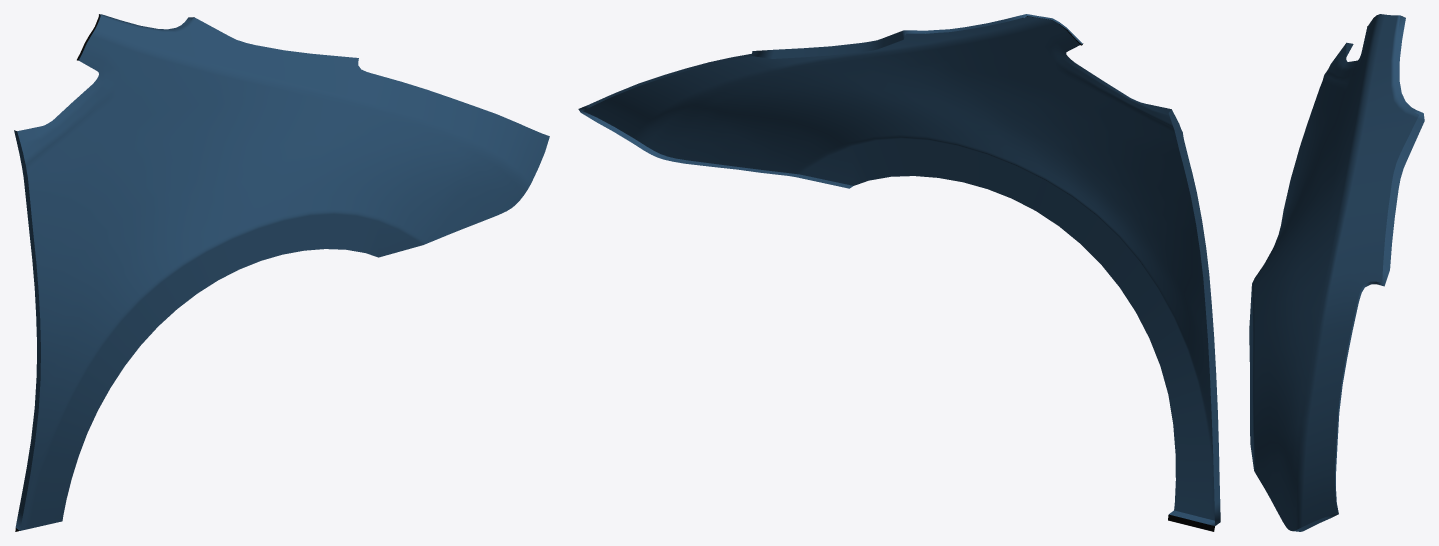
3 views of the same model, side by side, from view 1: azimuth 30°, elevation 25°; view 2: azimuth 150°, elevation 25°; view 3: azimuth 270°, elevation 25° (orthographic). The views are drawn at different scales.
Visible parts, largest first — view 1: Y191_13_141B_R_Y191_13_141B_R_1_DaS, Y191_13_141B_R_Y191_13_141B_R_1_DaS_E; view 2: Y191_13_141B_R_Y191_13_141B_R_1_DaS, Y191_13_141B_R_Y191_13_141B_R_1_DaS_E; view 3: Y191_13_141B_R_Y191_13_141B_R_1_DaS, Y191_13_141B_R_Y191_13_141B_R_1_DaS_E.
Boxes of the visible parts, x1=… form: Y191_13_141B_R_Y191_13_141B_R_1_DaS: x1=17, y1=14, x2=549, y2=530; Y191_13_141B_R_Y191_13_141B_R_1_DaS_E: x1=14, y1=14, x2=193, y2=530; Y191_13_141B_R_Y191_13_141B_R_1_DaS: x1=583, y1=16, x2=1214, y2=520; Y191_13_141B_R_Y191_13_141B_R_1_DaS_E: x1=578, y1=14, x2=1220, y2=525; Y191_13_141B_R_Y191_13_141B_R_1_DaS: x1=1249, y1=14, x2=1418, y2=530; Y191_13_141B_R_Y191_13_141B_R_1_DaS_E: x1=1293, y1=15, x2=1424, y2=531.
Bounding box in the file's own units: 92.07 × 73.29 × 21.11.
